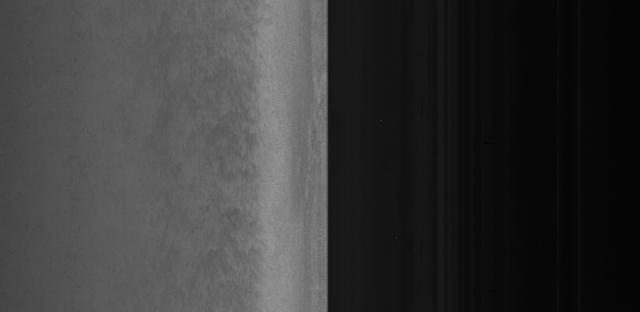silk_spot: (182, 68, 278, 290)
